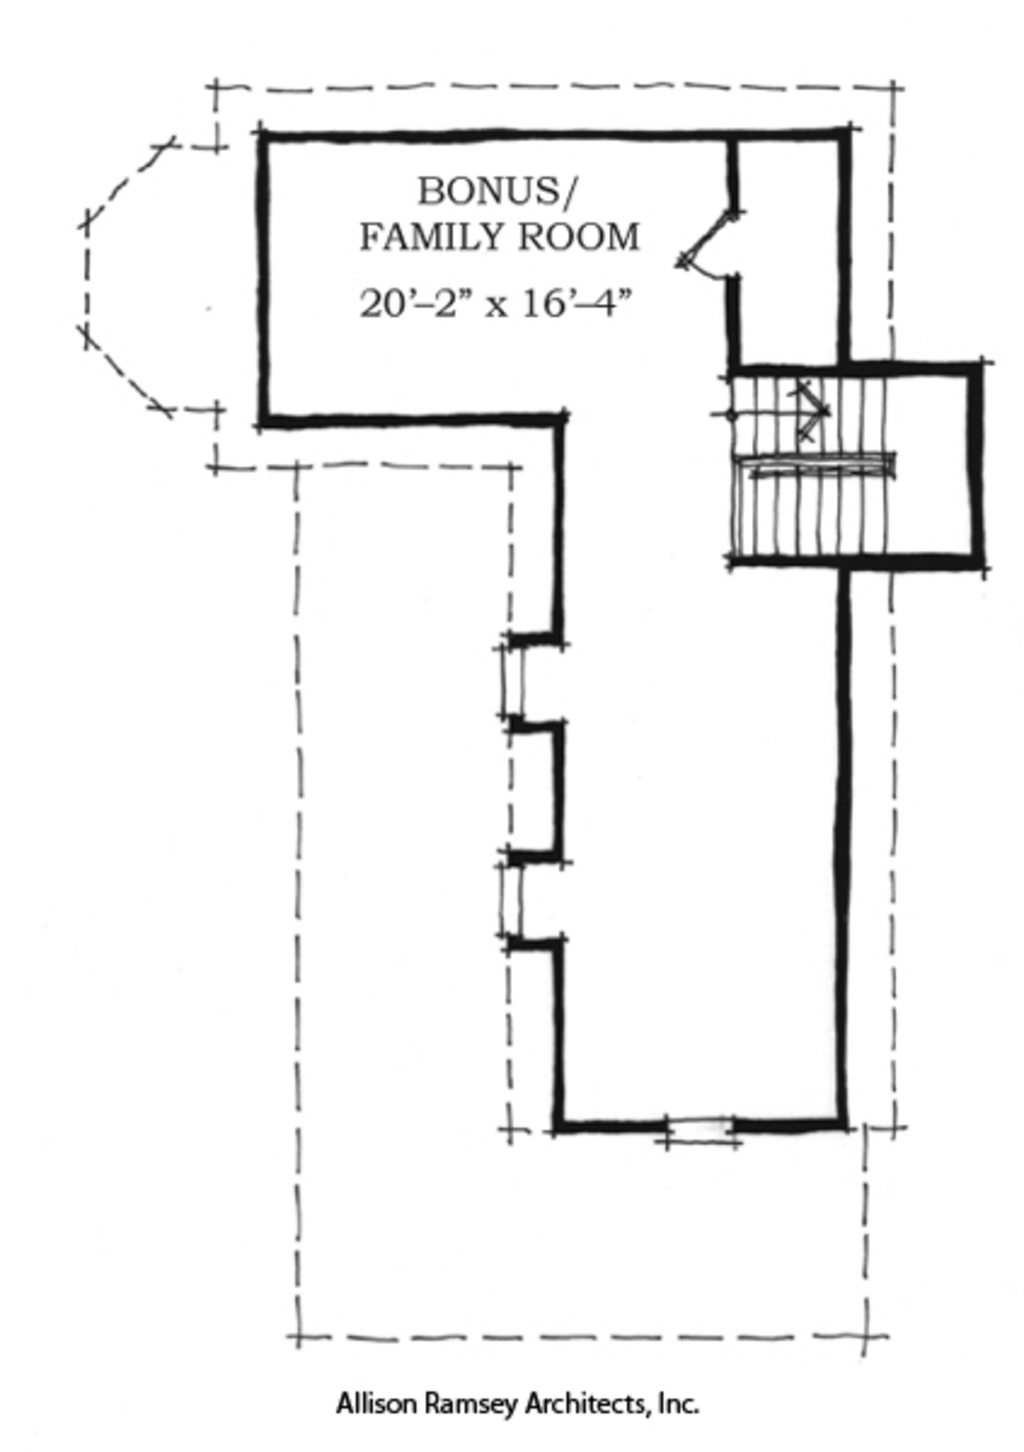door: (677, 208, 741, 288)
stairs: (711, 367, 904, 565)
windows: (649, 1105, 751, 1159), (489, 859, 531, 944), (495, 640, 531, 725)
